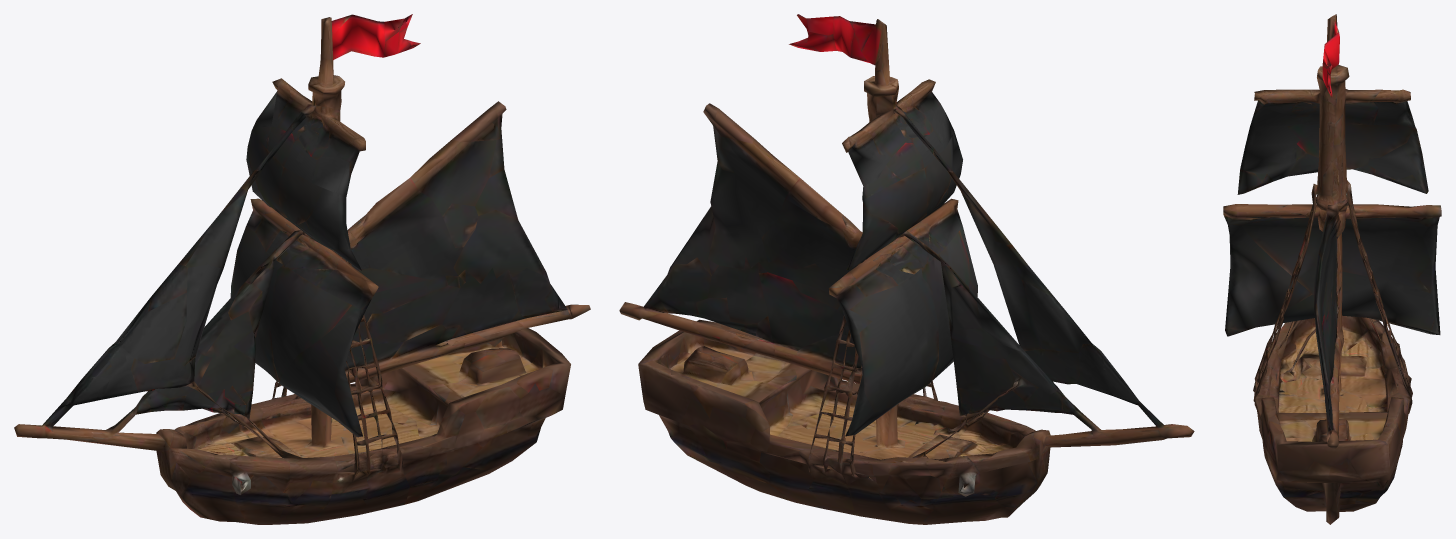
File: m_qar.glb
3 views of the same model, side by side, from view 1: azimuth 30°, elevation 25°; view 2: azimuth 150°, elevation 25°; view 3: azimuth 270°, elevation 25° (orthographic). The views are drawn at different scales.
Bounding box in the file's own units: 0.997 × 0.8013 × 0.3664.
1 material, 1 textured.
